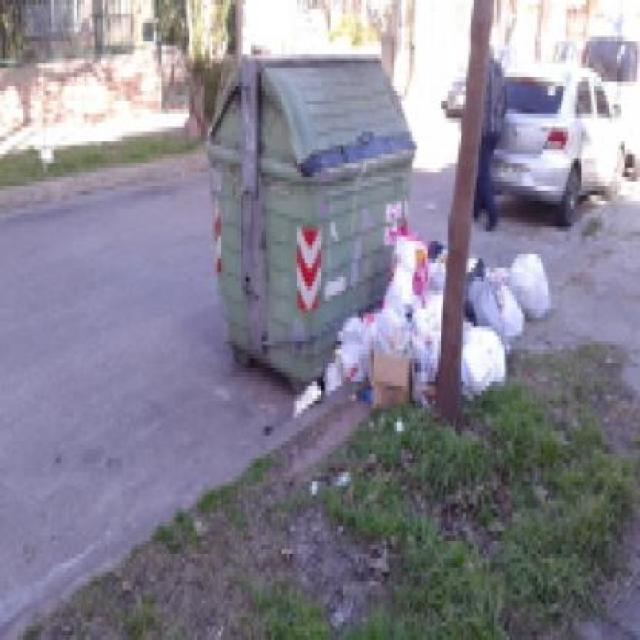garbage: (368, 228, 435, 410), (466, 263, 520, 390), (296, 326, 373, 394), (522, 250, 550, 309)
